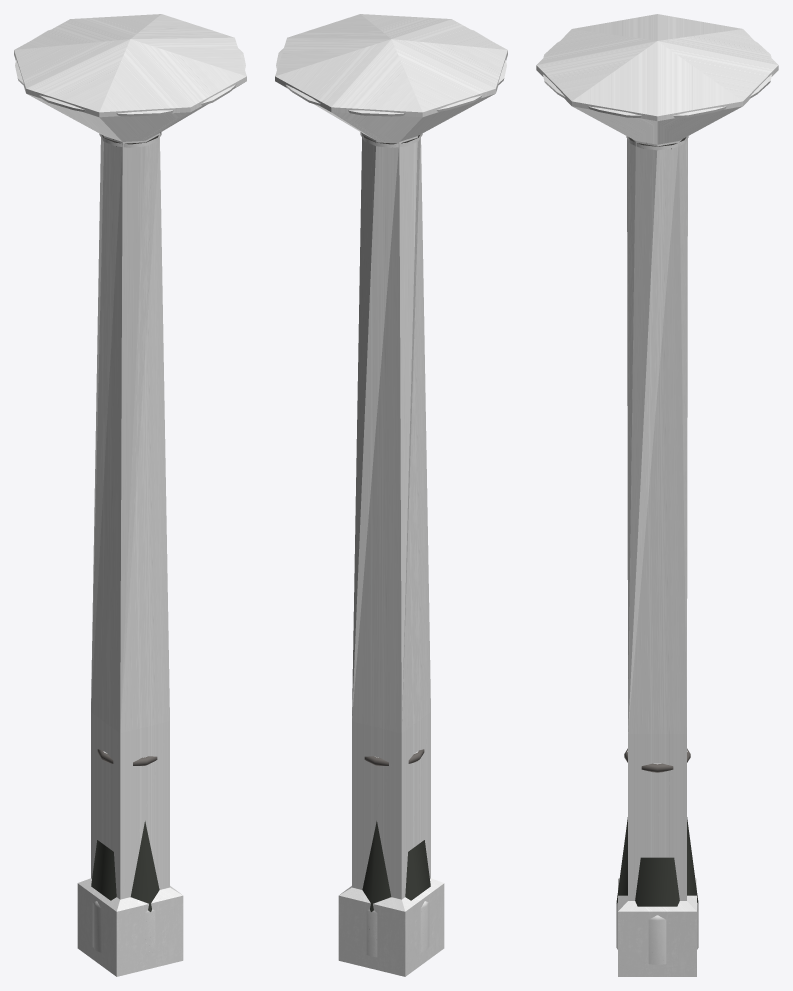
Rendered from si_lampost.DAE.
3 views of the same model, side by side, from view 1: azimuth 30°, elevation 25°; view 2: azimuth 150°, elevation 25°; view 3: azimuth 270°, elevation 25° (orthographic).
Visible parts, largest first — view 1: Colmesh-1, si_lampost150, si_lampost25; view 2: Colmesh-1, si_lampost150, si_lampost25; view 3: Colmesh-1, si_lampost25, si_lampost150.
Boxes of the visible parts, bbox=[...] form: Colmesh-1: bbox=[14, 14, 246, 976]; si_lampost150: bbox=[15, 30, 245, 957]; si_lampost25: bbox=[91, 146, 159, 911]; Colmesh-1: bbox=[275, 14, 507, 976]; si_lampost150: bbox=[276, 30, 506, 957]; si_lampost25: bbox=[362, 821, 430, 911]; Colmesh-1: bbox=[536, 14, 778, 976]; si_lampost25: bbox=[616, 148, 698, 906]; si_lampost150: bbox=[543, 41, 771, 964].
Bounding box in the file's own units: 84.25 × 84.25 × 353.
